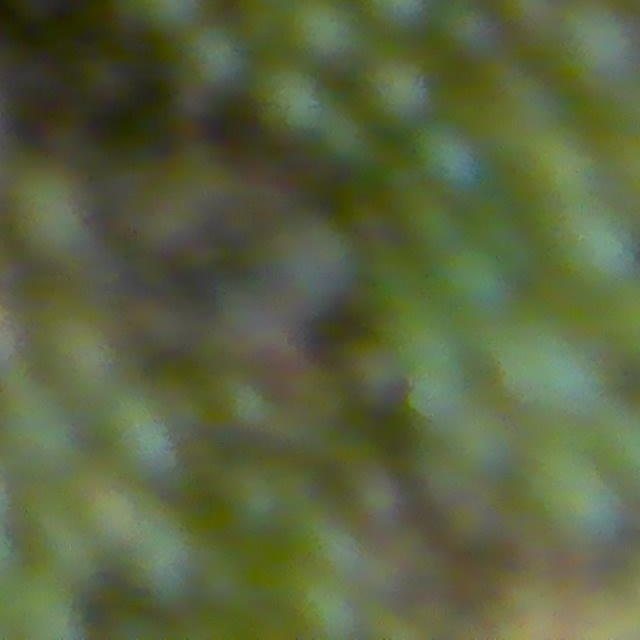SeaGrape: (522, 439, 622, 553), (504, 321, 607, 428), (6, 160, 103, 265), (263, 211, 366, 309), (125, 509, 213, 605), (97, 382, 179, 485), (41, 305, 129, 400), (0, 380, 83, 479), (221, 454, 314, 540), (553, 201, 634, 299), (405, 116, 490, 202), (555, 1, 640, 83), (352, 46, 431, 130), (435, 239, 516, 318), (247, 60, 322, 136), (446, 408, 520, 481), (282, 0, 357, 69), (167, 31, 244, 96), (209, 369, 276, 436), (429, 0, 497, 63), (320, 112, 371, 158)
